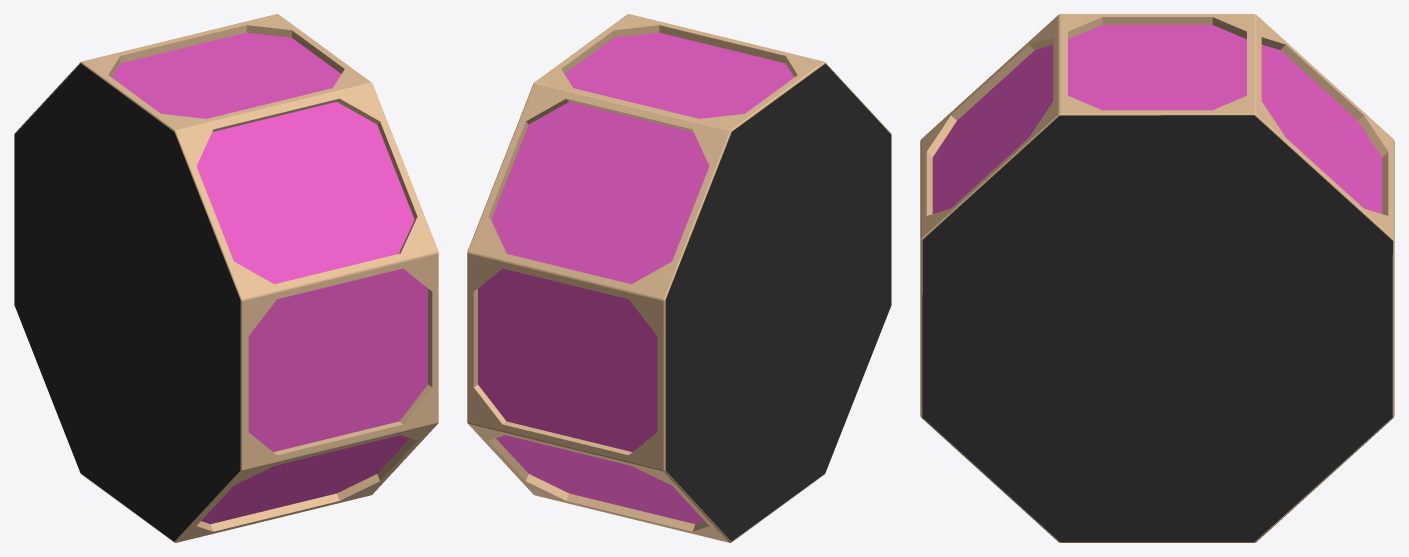
File: RotatorSymbole.fbx
The picture shows the model from 3 angles, left to right: view 1: azimuth 30°, elevation 25°; view 2: azimuth 150°, elevation 25°; view 3: azimuth 270°, elevation 25°; orthographic projection. The views are drawn at different scales.
Visible parts, largest first — view 1: Rotator Symbole; view 2: Rotator Symbole; view 3: Rotator Symbole.
Boxes of the visible parts, x1,y1,x2,y2 form: Rotator Symbole: [14, 14, 438, 542]; Rotator Symbole: [467, 14, 891, 542]; Rotator Symbole: [920, 14, 1394, 542].
Bounding box in the file's own units: 27.6 × 55 × 55.
